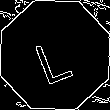L_N: (31, 26, 79, 84)
